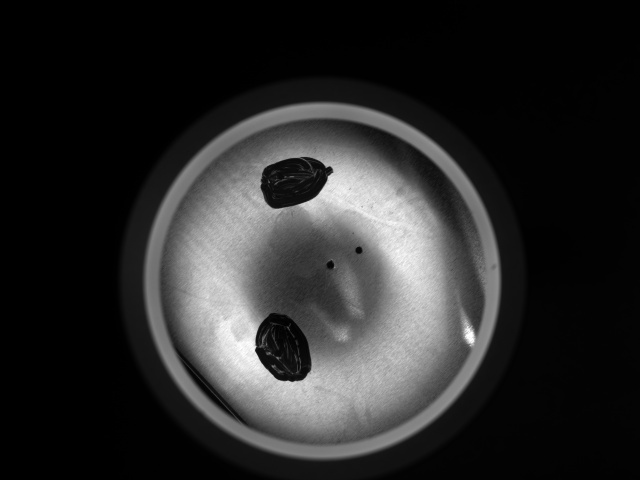zang_wu: (254, 311, 313, 381), (260, 156, 335, 211)
zhen_kong: (323, 257, 336, 273), (352, 243, 365, 257)
